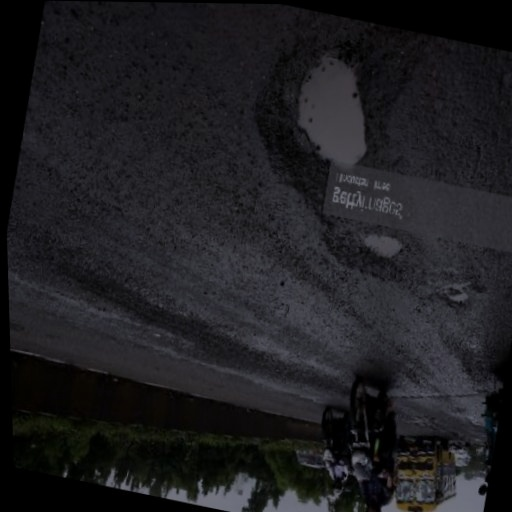pothole: (235, 3, 429, 214), (309, 214, 423, 292), (431, 270, 480, 315)
